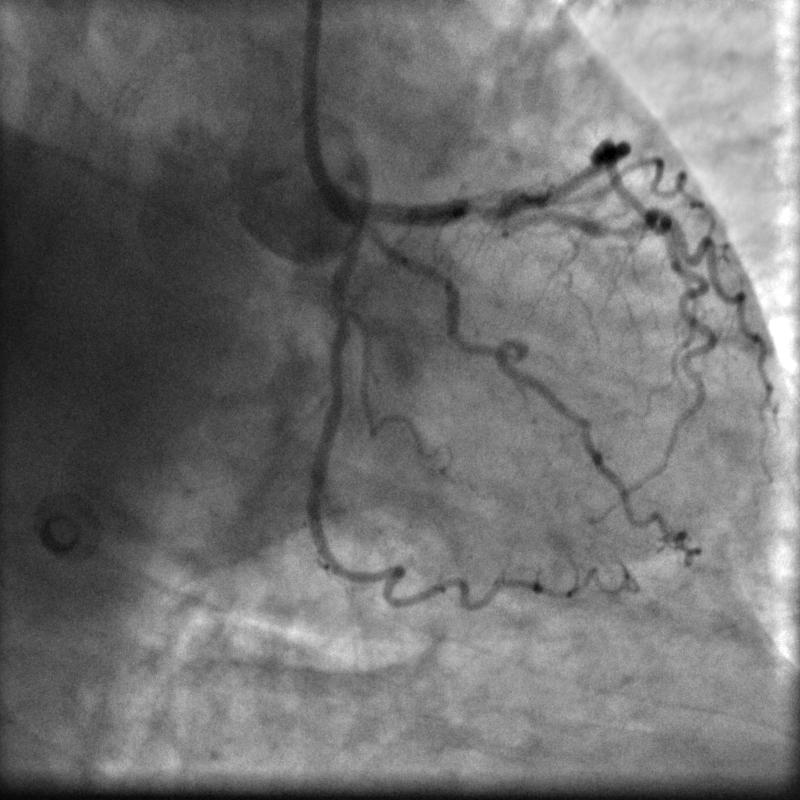Stenosis: (458, 190, 503, 226)
